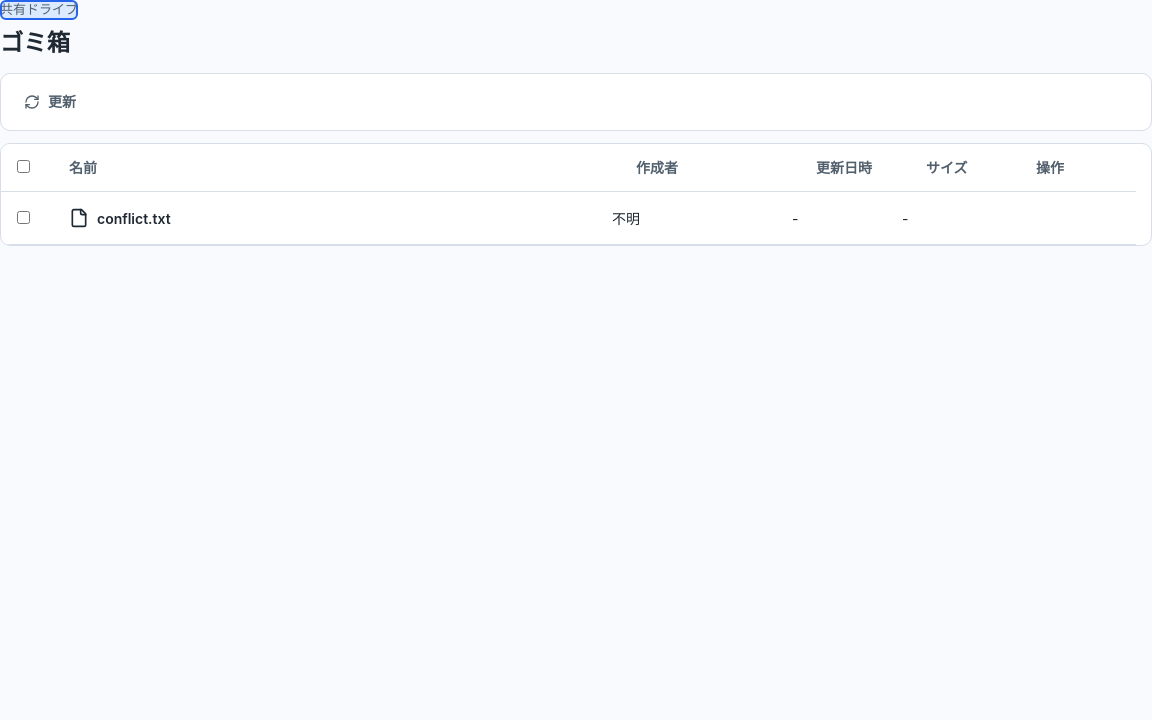
it: DrivePage drag and drop upload › shows restore preview with before and after names for a single name conflict
Step 1. Click the checkbox named "conflictを選択" → point(24, 217), box [17,211,30,224]
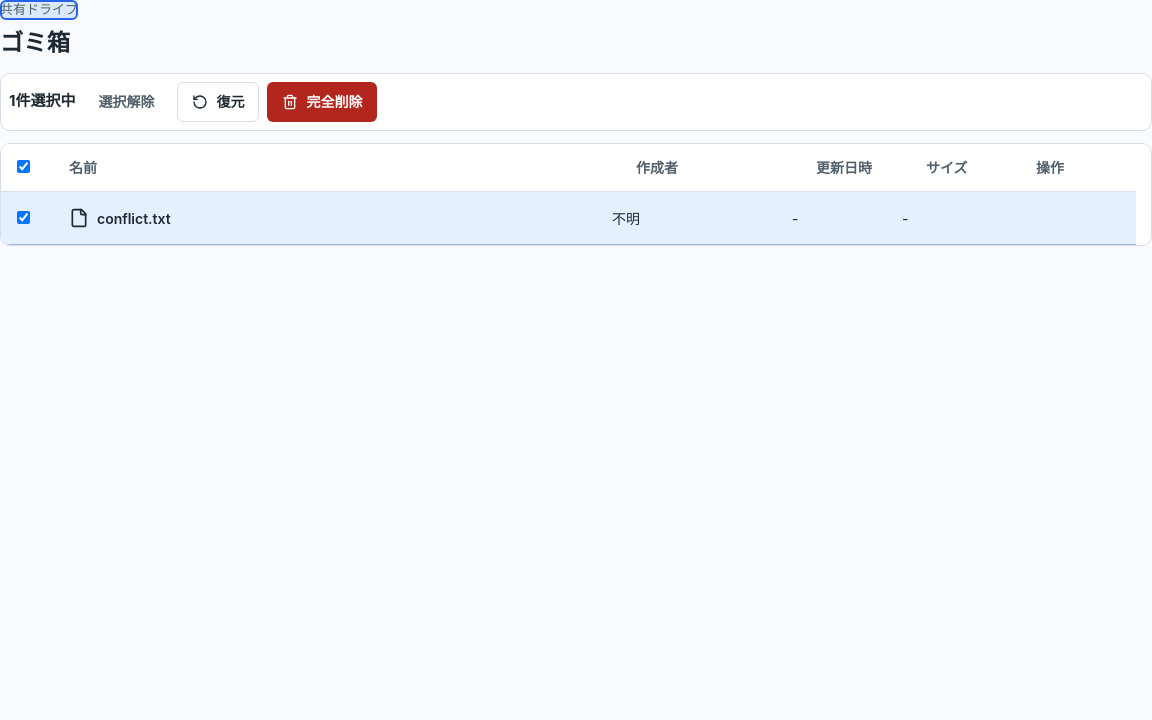
Step 2. Click the button "復元" → point(218, 102), box [178,82,260,122]
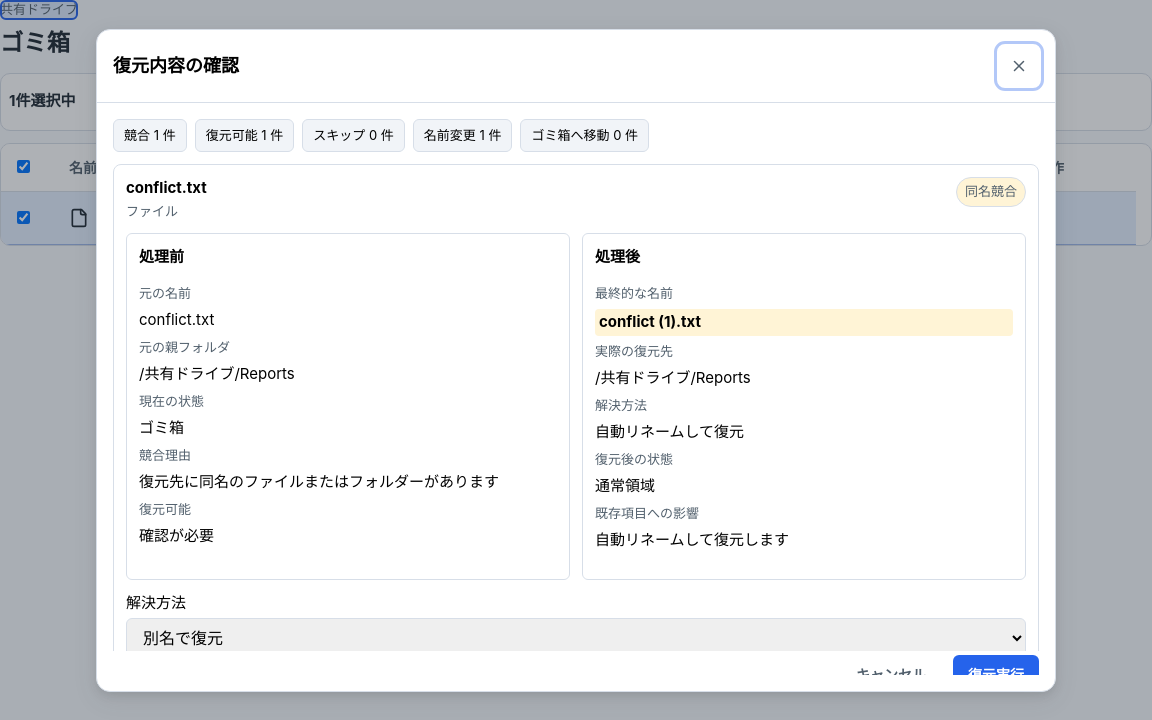
Check: the heading "復元内容の確認" is shown, box [113,52,239,79]
Check: the text "競合 1 件" is shown, box [113,118,187,152]
Check: the text "conflict (1).txt" is shown, box [595,309,1013,336]
